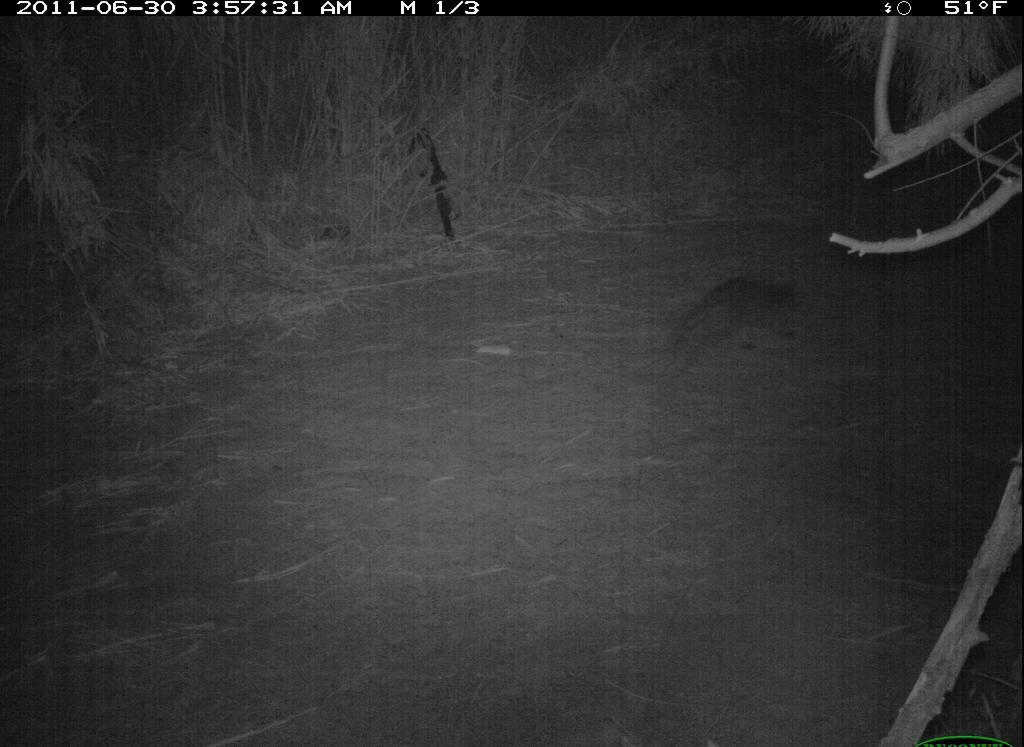raccoon: (666, 273, 809, 381)
